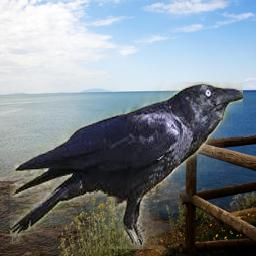Crow: (11, 83, 244, 250)
